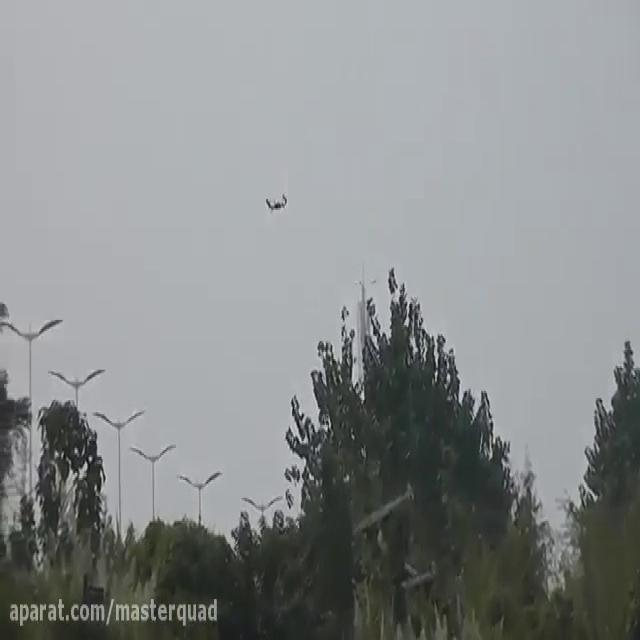drone: (262, 187, 291, 216)
